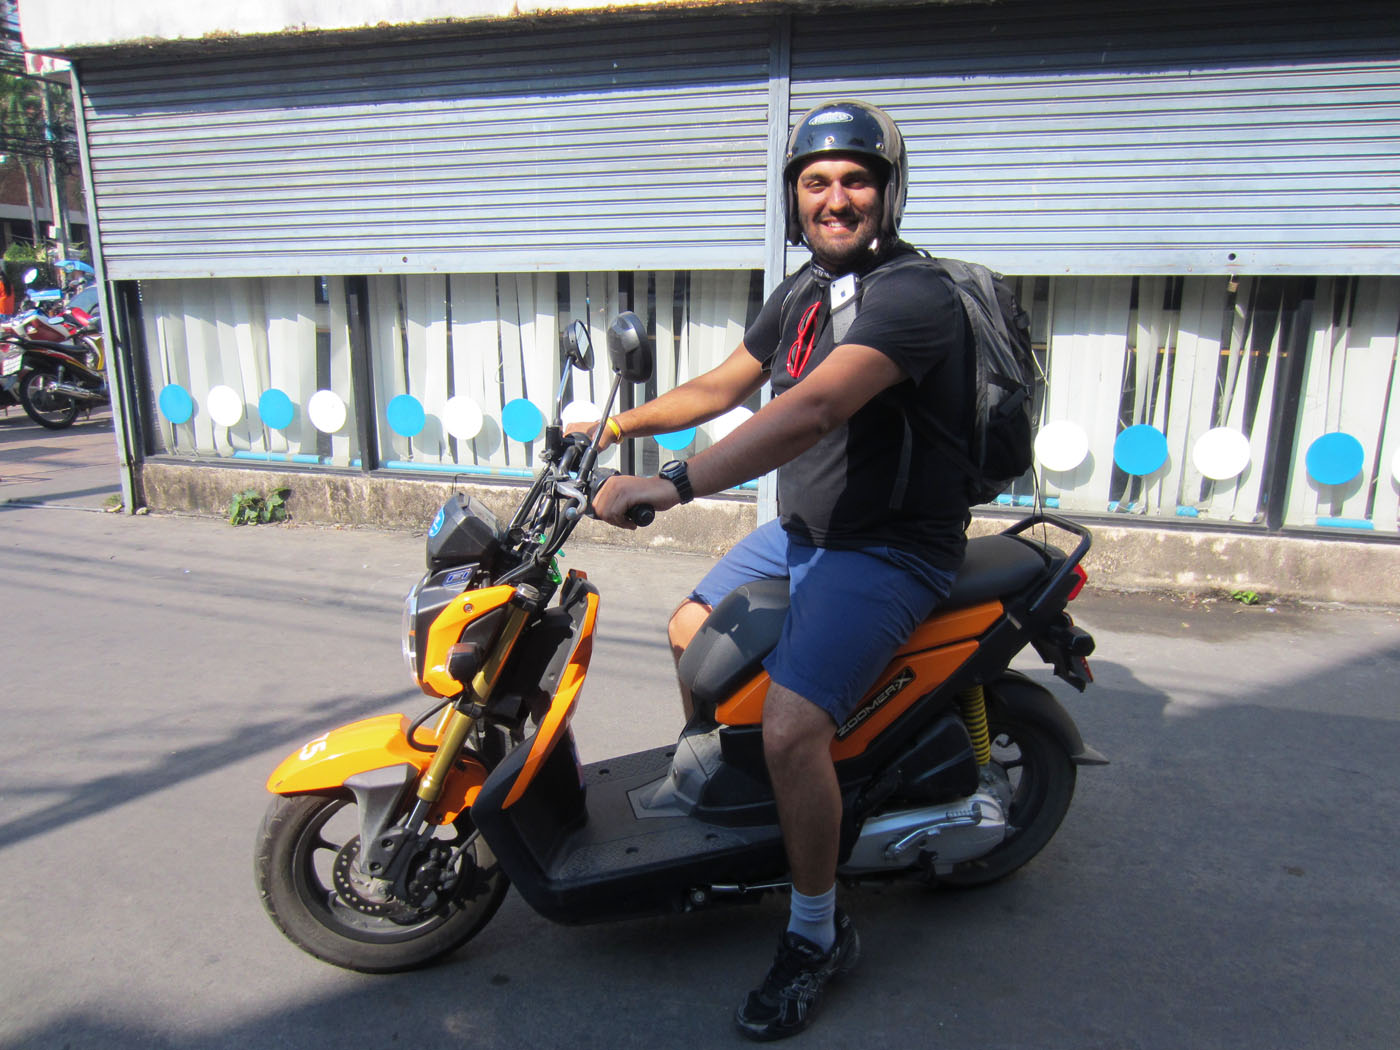bike: (256, 317, 1095, 979), (14, 295, 110, 424)
person: (604, 103, 1027, 1043)
